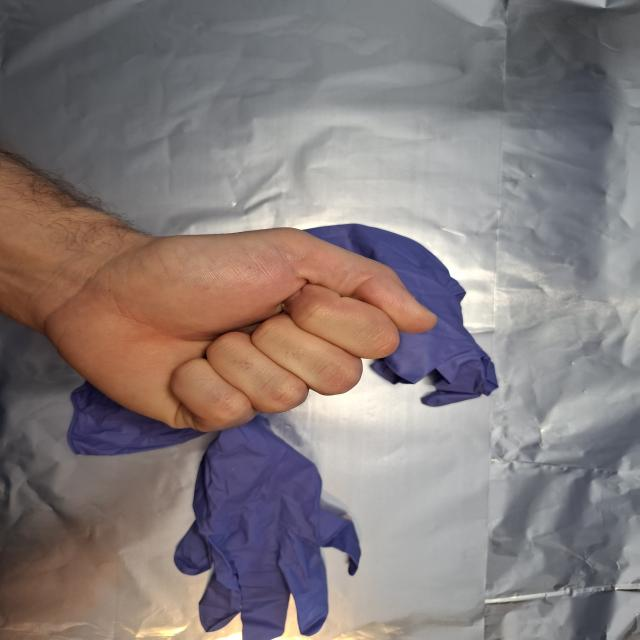glove_off: (27, 222, 441, 436)
